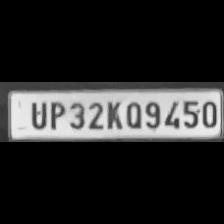0: (199, 98, 219, 128)
2: (86, 98, 104, 130)
3: (66, 98, 86, 130)
4: (161, 98, 179, 130)
5: (180, 97, 198, 128)
9: (142, 98, 160, 130)
K: (103, 99, 121, 131)
P: (47, 98, 65, 130)
Q: (122, 98, 142, 130)
U: (26, 99, 46, 129)
